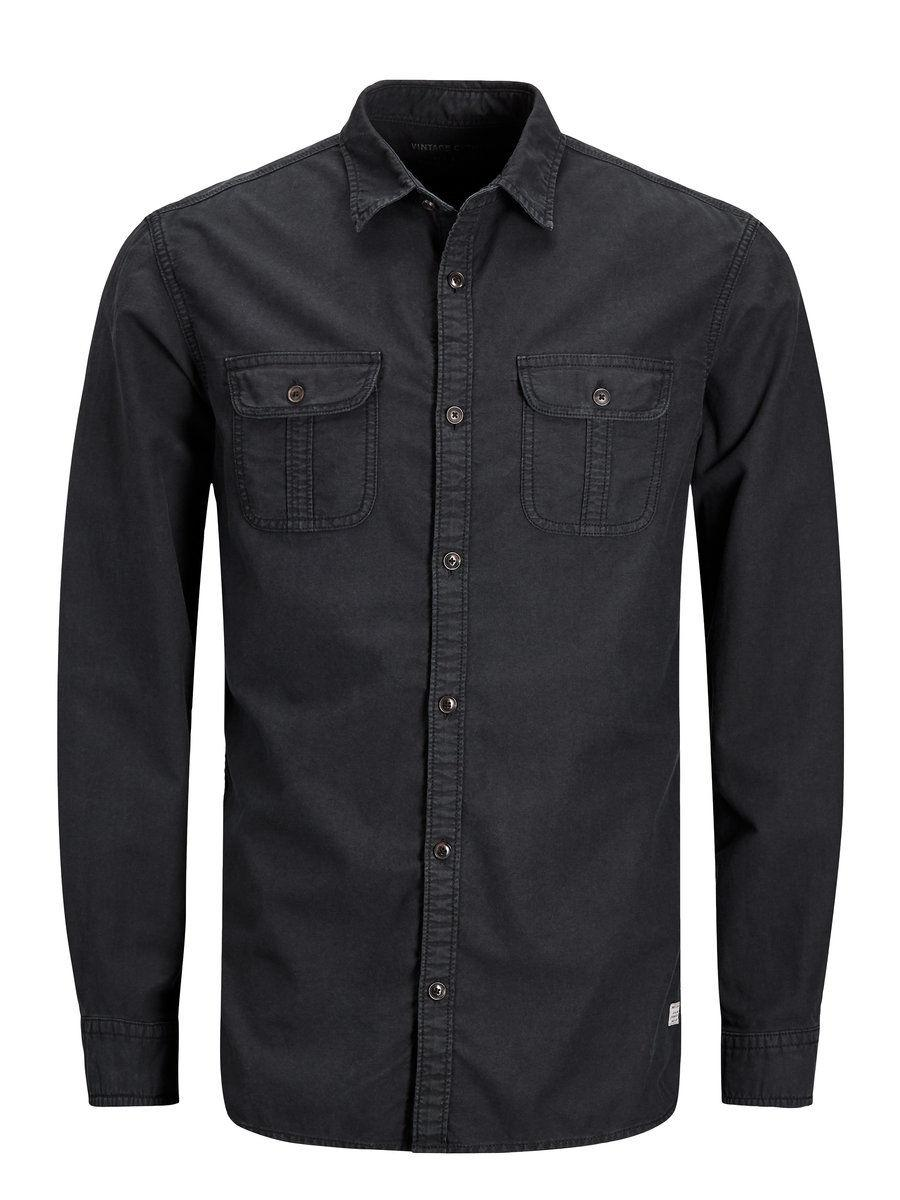teeshirt: (20, 73, 867, 1160)
